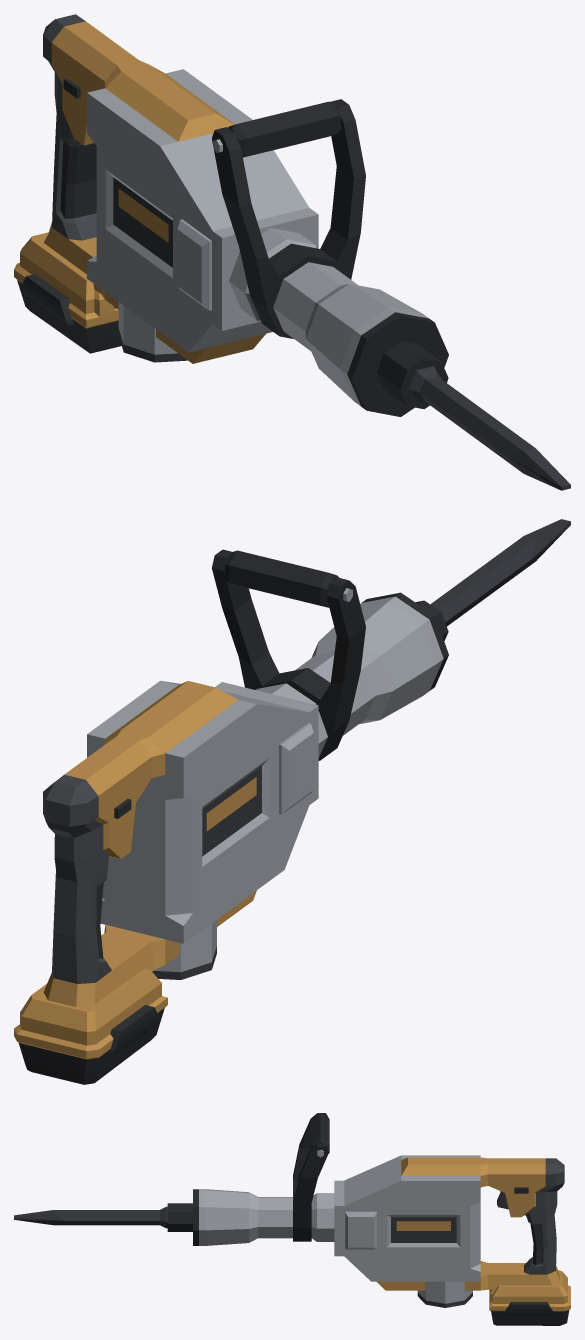
The model's file is SM_Tool_Concrete_Breaker_Hand_01.fbx.
3 renders of one model, top to bottom at view 1: azimuth 30°, elevation 25°; view 2: azimuth 150°, elevation 25°; view 3: azimuth 270°, elevation 25°, orthographic. The views are drawn at different scales.
Visible parts, largest first — view 1: SM_Tool_Concrete_Breaker_Hand_01, SM_Tool_Concrete_Breaker_Hand_01_Bit, SM_Tool_Concrete_Breaker_Hand_01_Battery; view 2: SM_Tool_Concrete_Breaker_Hand_01, SM_Tool_Concrete_Breaker_Hand_01_Battery, SM_Tool_Concrete_Breaker_Hand_01_Bit; view 3: SM_Tool_Concrete_Breaker_Hand_01, SM_Tool_Concrete_Breaker_Hand_01_Bit, SM_Tool_Concrete_Breaker_Hand_01_Battery.
Part boxes in pixels (x1,y1,x2,y2): SM_Tool_Concrete_Breaker_Hand_01: (20, 14, 448, 416); SM_Tool_Concrete_Breaker_Hand_01_Bit: (407, 366, 570, 490); SM_Tool_Concrete_Breaker_Hand_01_Battery: (14, 263, 121, 353); SM_Tool_Concrete_Breaker_Hand_01: (20, 549, 448, 1045); SM_Tool_Concrete_Breaker_Hand_01_Battery: (14, 996, 167, 1084); SM_Tool_Concrete_Breaker_Hand_01_Bit: (430, 519, 570, 626); SM_Tool_Concrete_Breaker_Hand_01: (167, 1113, 567, 1307); SM_Tool_Concrete_Breaker_Hand_01_Bit: (14, 1206, 167, 1228); SM_Tool_Concrete_Breaker_Hand_01_Battery: (489, 1285, 570, 1325).
Size of the model in its own units: 17.65 by 44.56 by 118.
